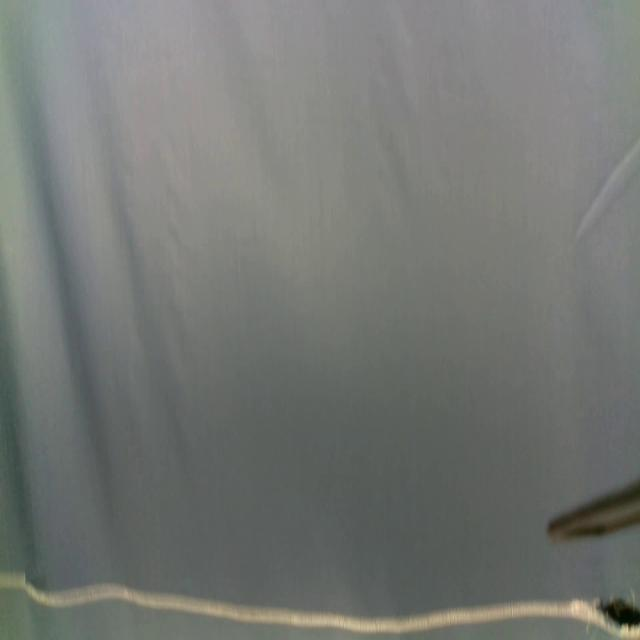crease: (571, 131, 640, 239)
hole: (597, 596, 640, 629)
